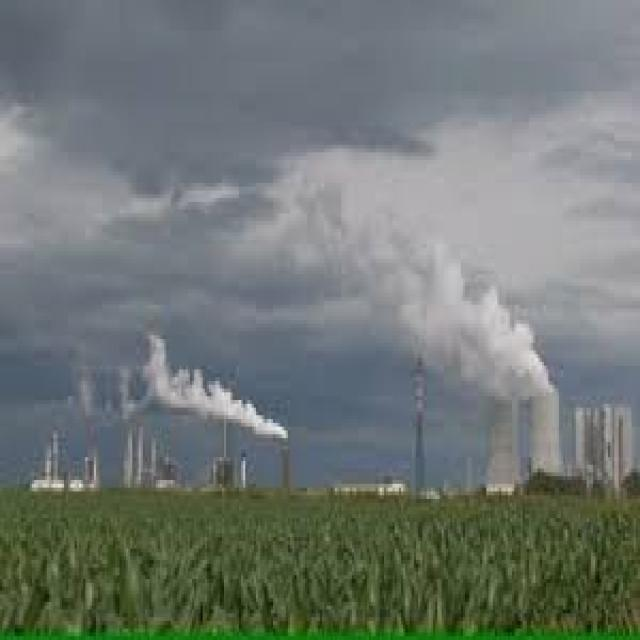Smoke: (430, 248, 547, 390), (148, 336, 286, 442)
